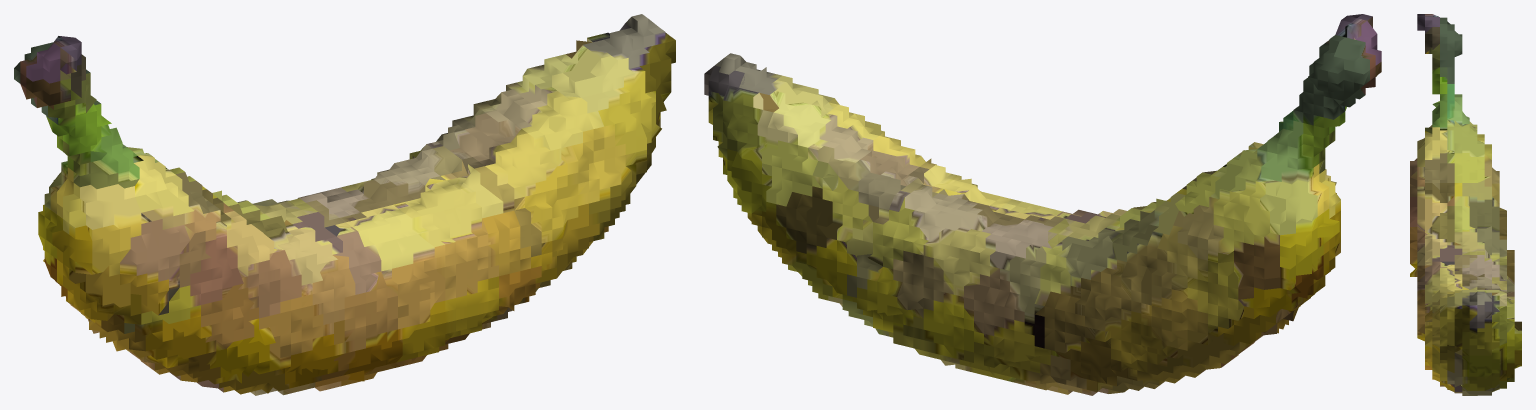
The model's file is simplified_banana_1.glb.
3 renders of one model, left to right at view 1: azimuth 30°, elevation 25°; view 2: azimuth 150°, elevation 25°; view 3: azimuth 270°, elevation 25°, orthographic. The views are drawn at different scales.
Visible parts, largest first — view 1: Mesh1; view 2: Mesh1; view 3: Mesh1.
Part boxes in pixels (x1,y1,x2,y2): Mesh1: (14,14,675,395); Mesh1: (704,14,1381,395); Mesh1: (1410,14,1521,395).
Size of the model in its own units: 1.2 by 0.7238 by 0.2857.
1 material, 1 textured.
